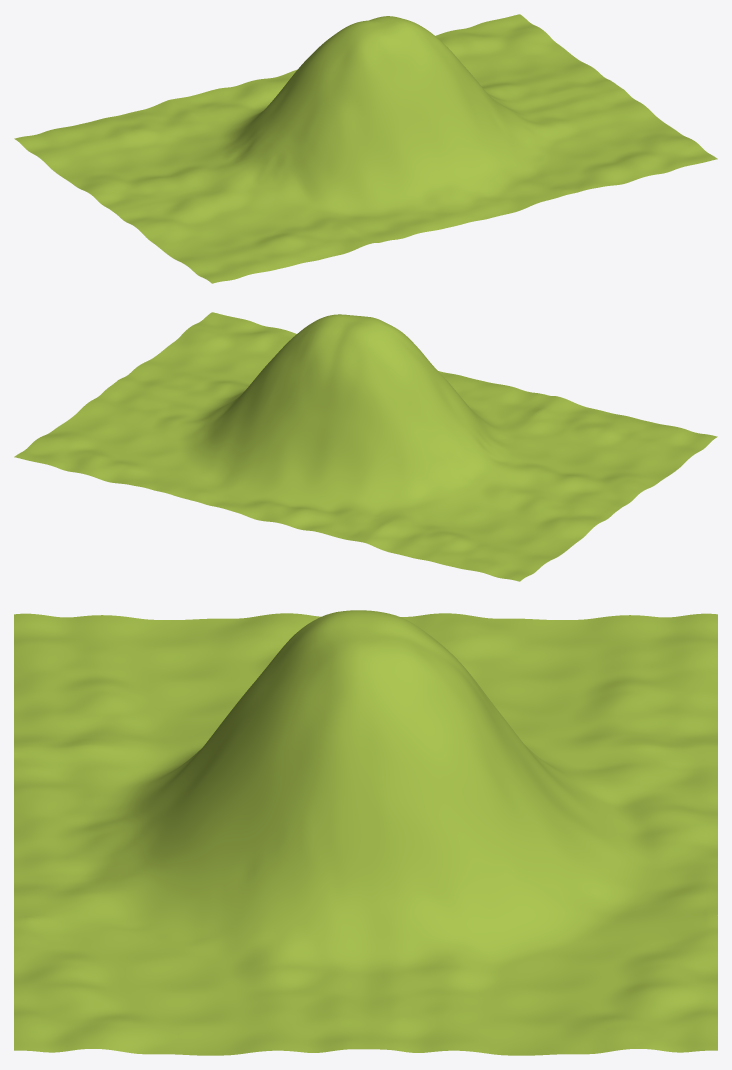
The model's file is coline2.fbx.
The picture shows the model from 3 angles, top to bottom: view 1: azimuth 30°, elevation 25°; view 2: azimuth 150°, elevation 25°; view 3: azimuth 270°, elevation 25°; orthographic projection. The views are drawn at different scales.
Parts seen in each view (by area): view 1: coline2; view 2: coline2; view 3: coline2.
Part boxes in pixels (x1,y1,x2,y2): coline2: [14, 14, 717, 283]; coline2: [14, 312, 717, 581]; coline2: [14, 610, 717, 1055].
Bounding box in the file's own units: 2124 × 509 × 1441.
